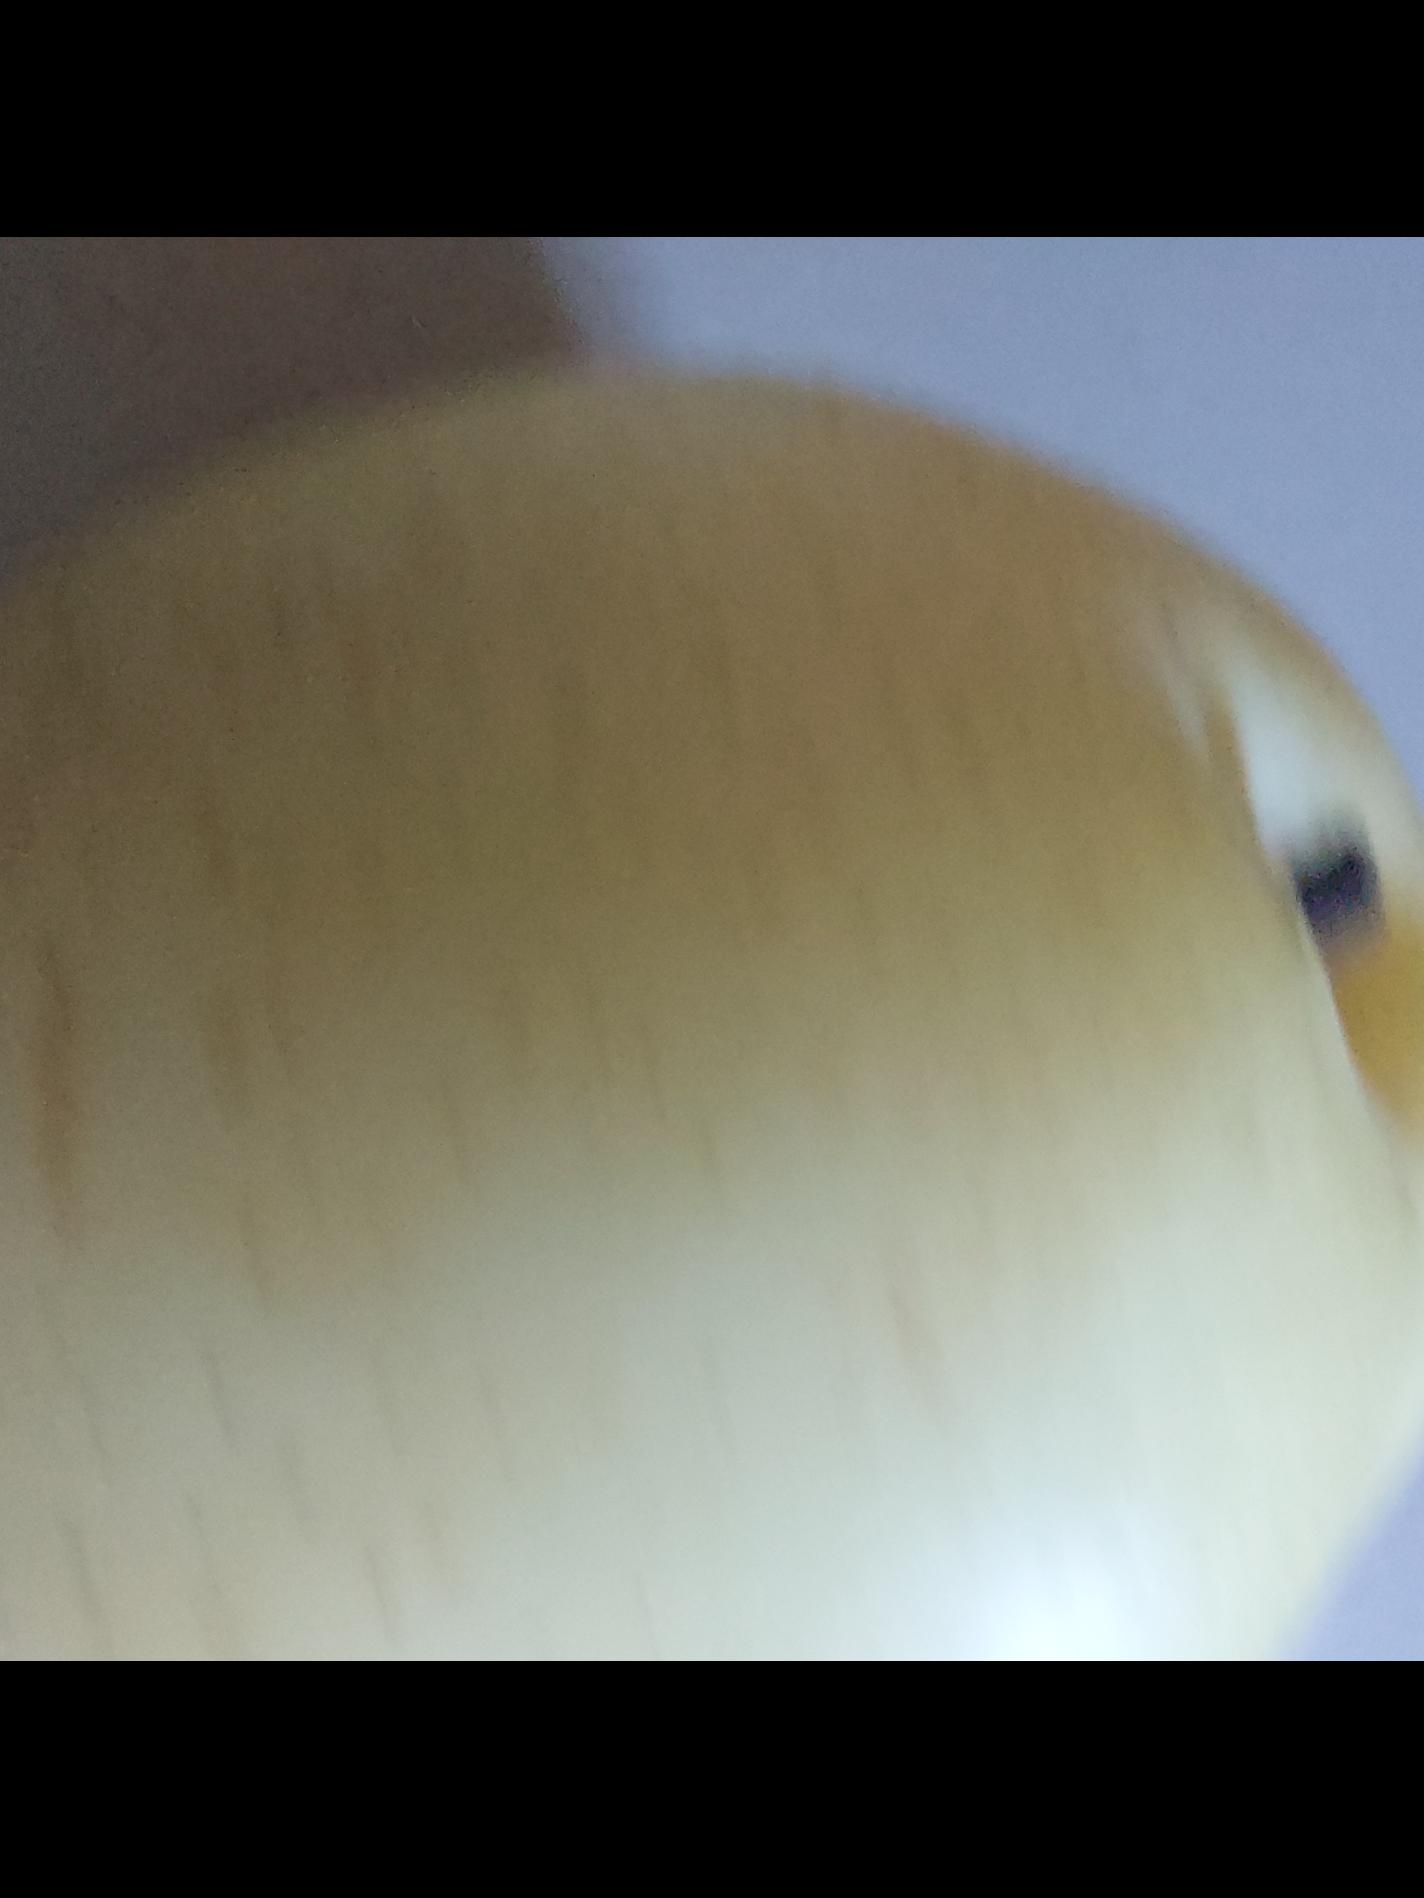Good Pear: (0, 322, 1424, 1662)
